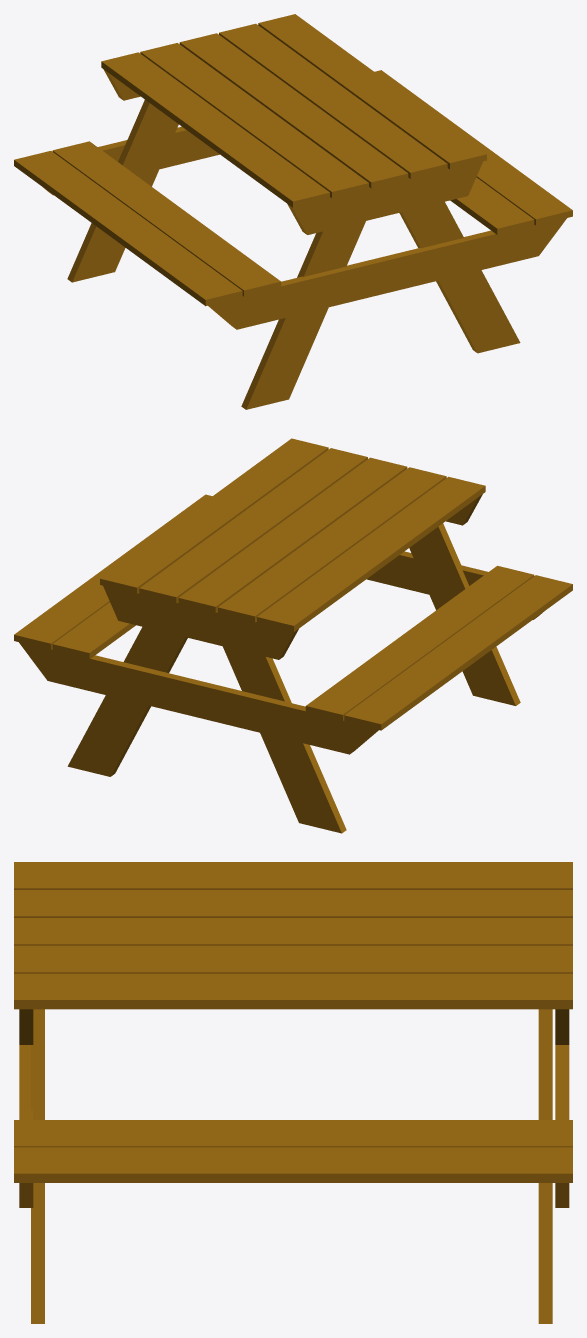
The model's file is table_7.fbx.
3 renders of one model, top to bottom at view 1: azimuth 30°, elevation 25°; view 2: azimuth 150°, elevation 25°; view 3: azimuth 270°, elevation 25°, orthographic. The views are drawn at different scales.
Parts seen in each view (by area): view 1: polySurface316; view 2: polySurface316; view 3: polySurface316.
Part boxes in pixels (<box>): polySurface316: <box>14,14,572,409</box>; polySurface316: <box>14,438,572,833</box>; polySurface316: <box>14,862,572,1323</box>.
Bounding box in the file's own units: 0.318 × 0.1676 × 0.2872.
